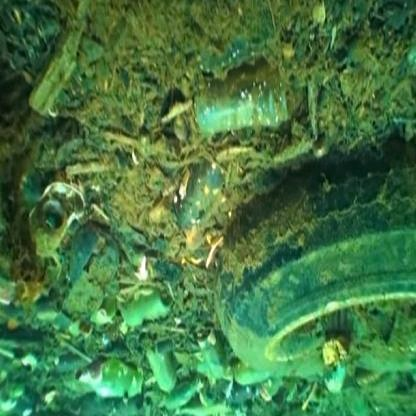gbottle: (68, 345, 165, 414), (187, 70, 279, 134), (211, 17, 283, 98), (177, 315, 248, 387), (98, 281, 192, 334), (139, 330, 201, 410), (184, 140, 237, 226)
tire: (212, 177, 416, 394)
